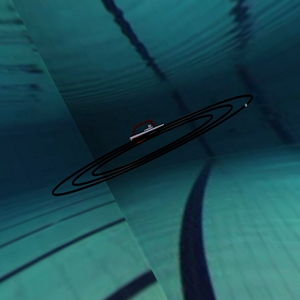circle: (44, 86, 272, 201)
submarine: (123, 110, 170, 149)
